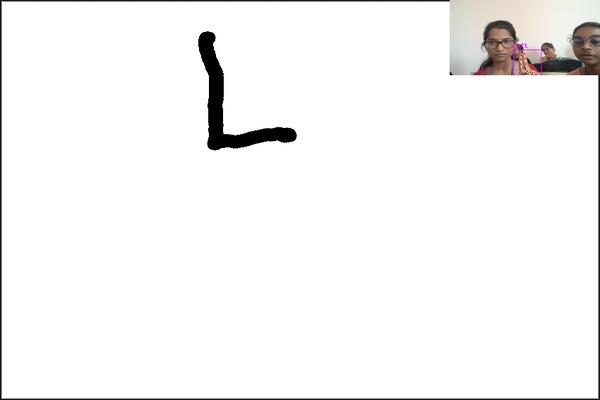L: (189, 22, 303, 157)
